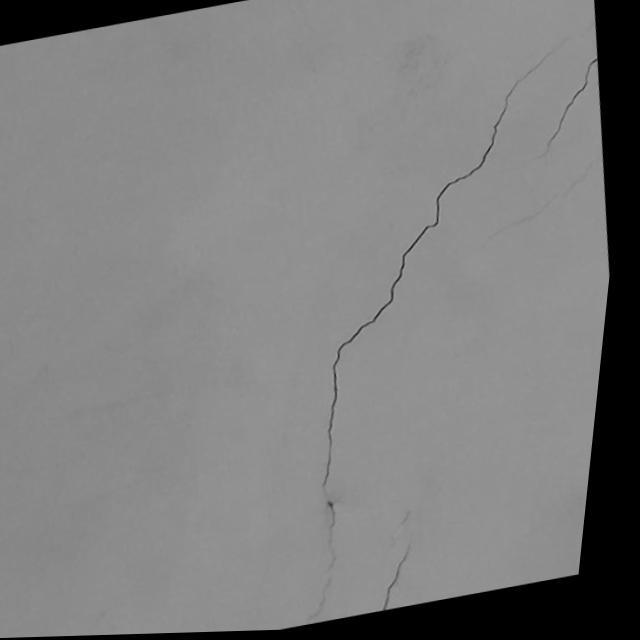Crack: (316, 48, 536, 535), (540, 55, 595, 157), (380, 540, 413, 604)
